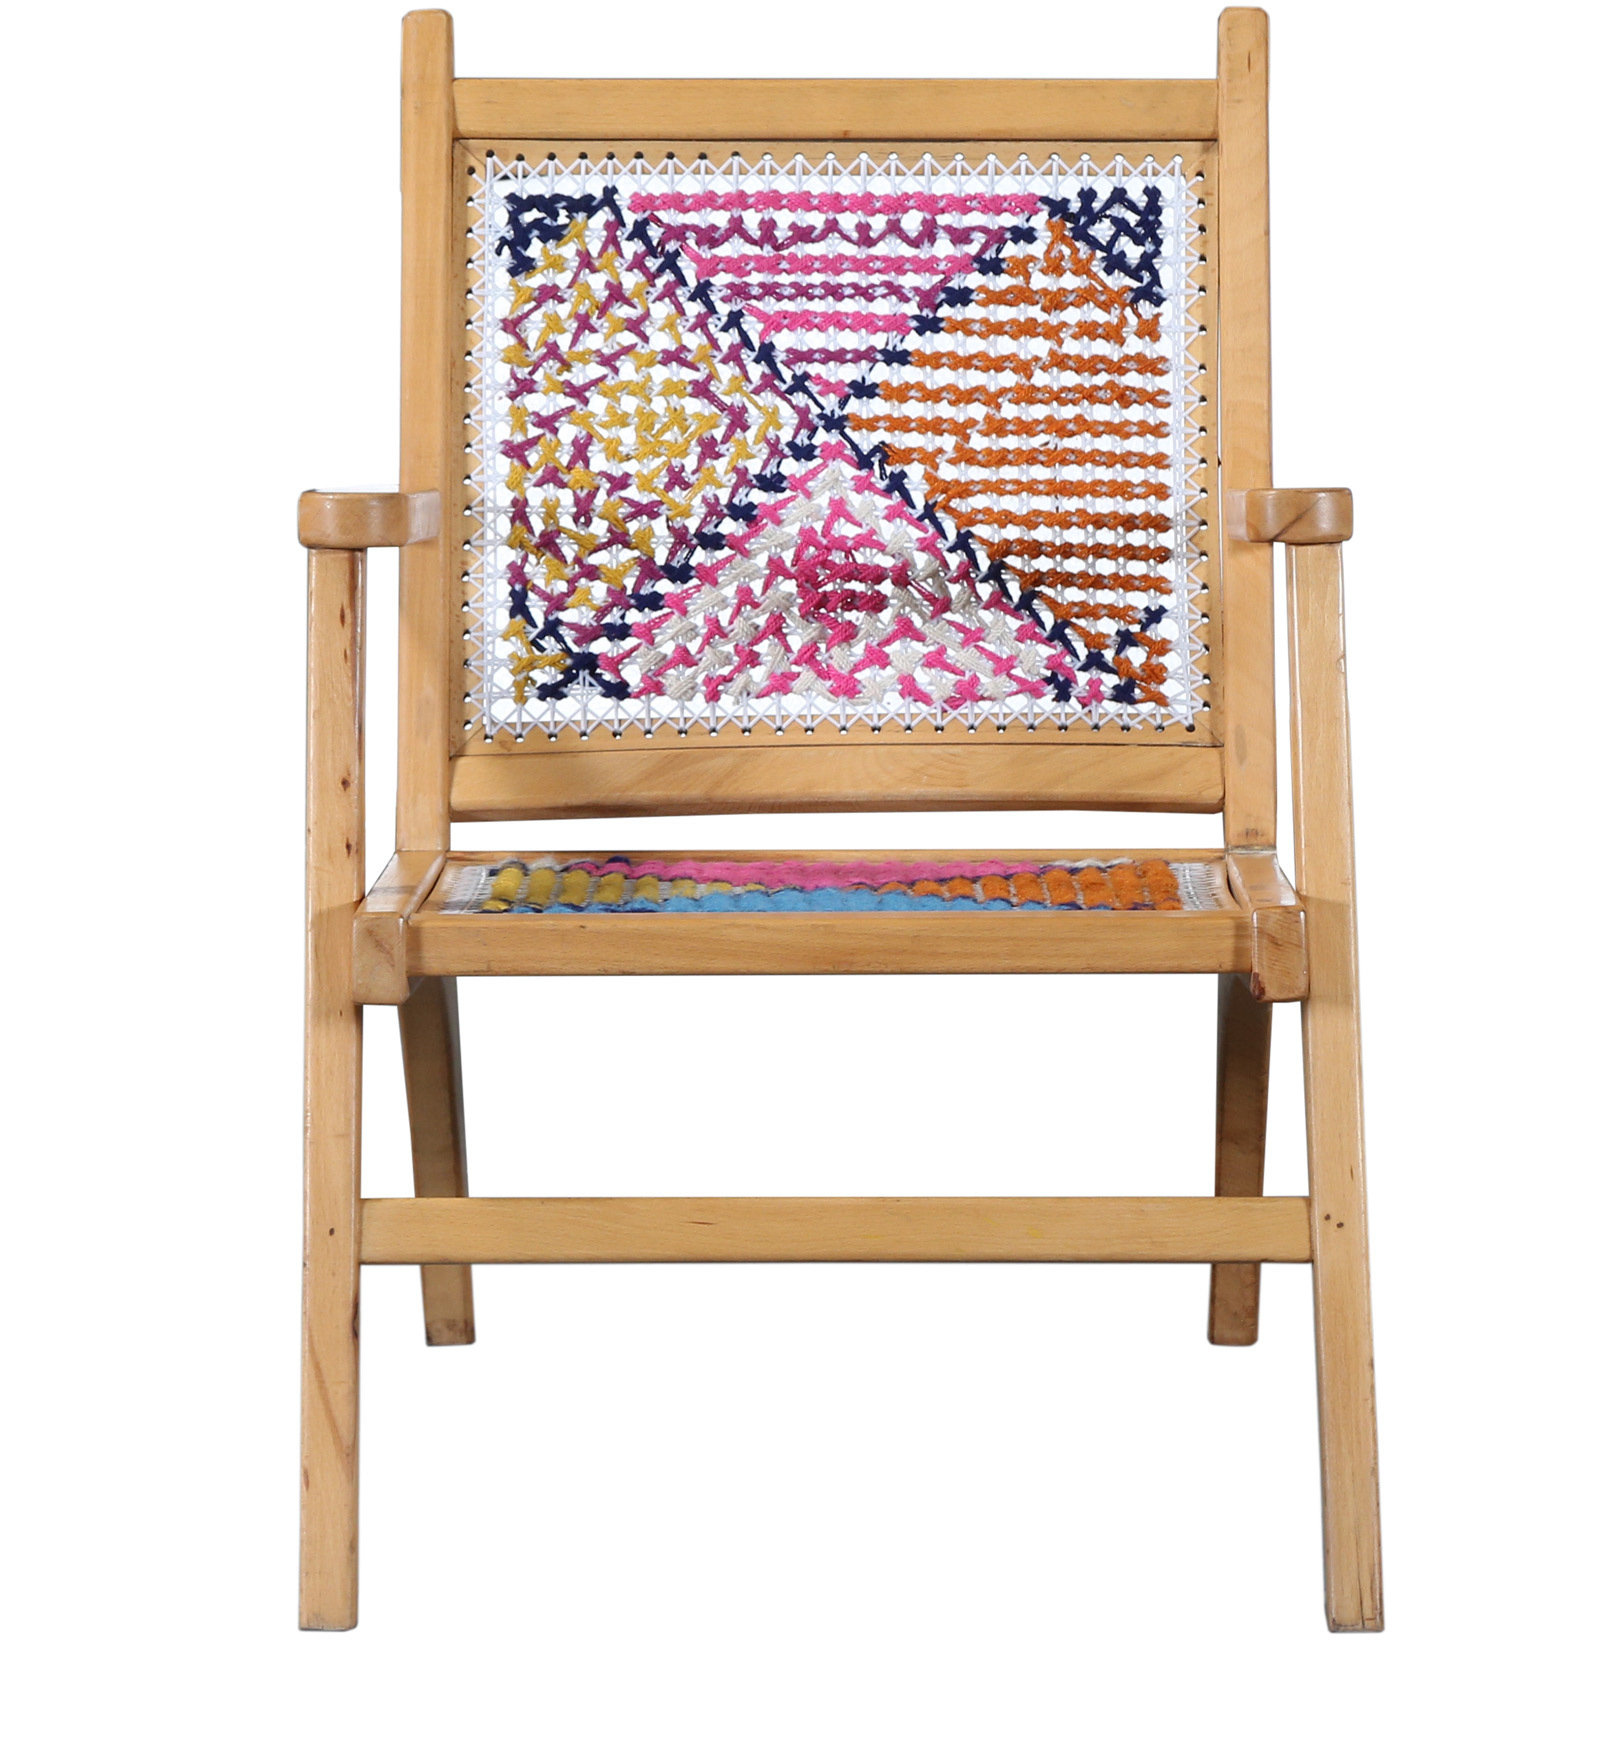Cara Arm Chair in in Multi- Color Finish by Bohemiana: (219, 17, 1464, 1728)
